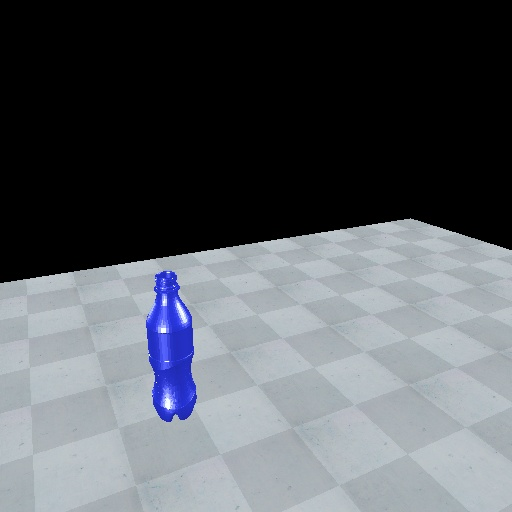bottle: (144, 268, 199, 425)
